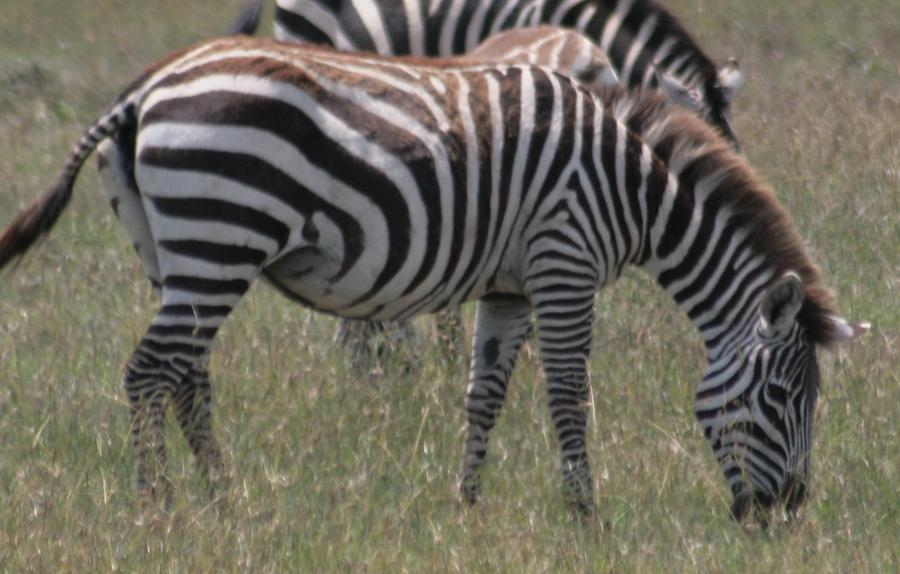zebra_plains: (130, 21, 632, 336)
